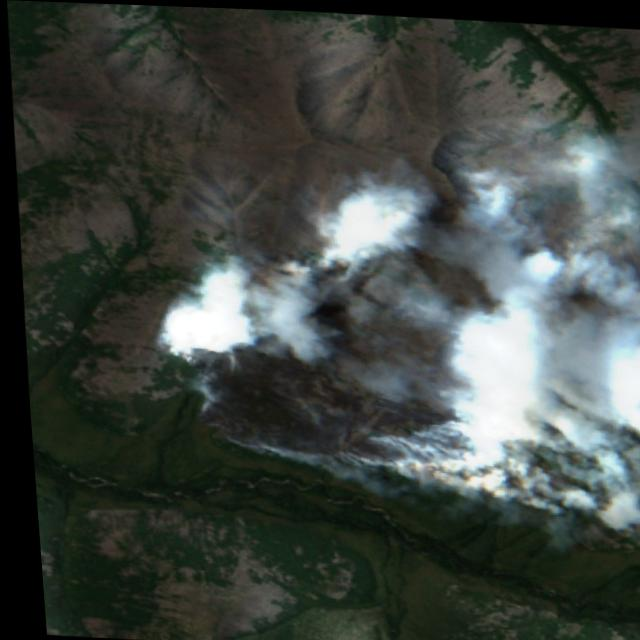fire: (91, 110, 640, 487)
